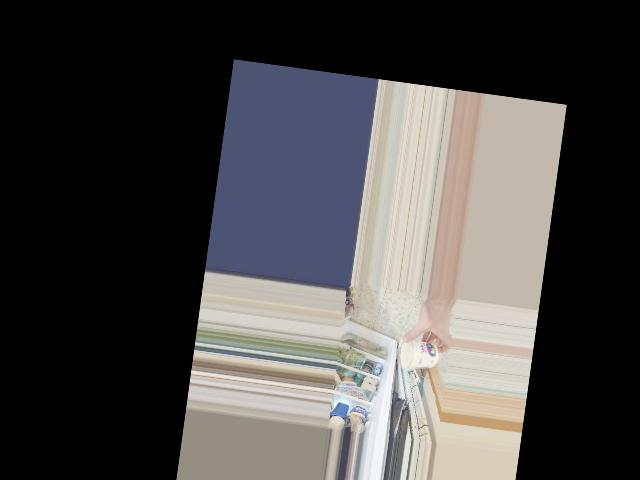cotage: (398, 339, 443, 373)
